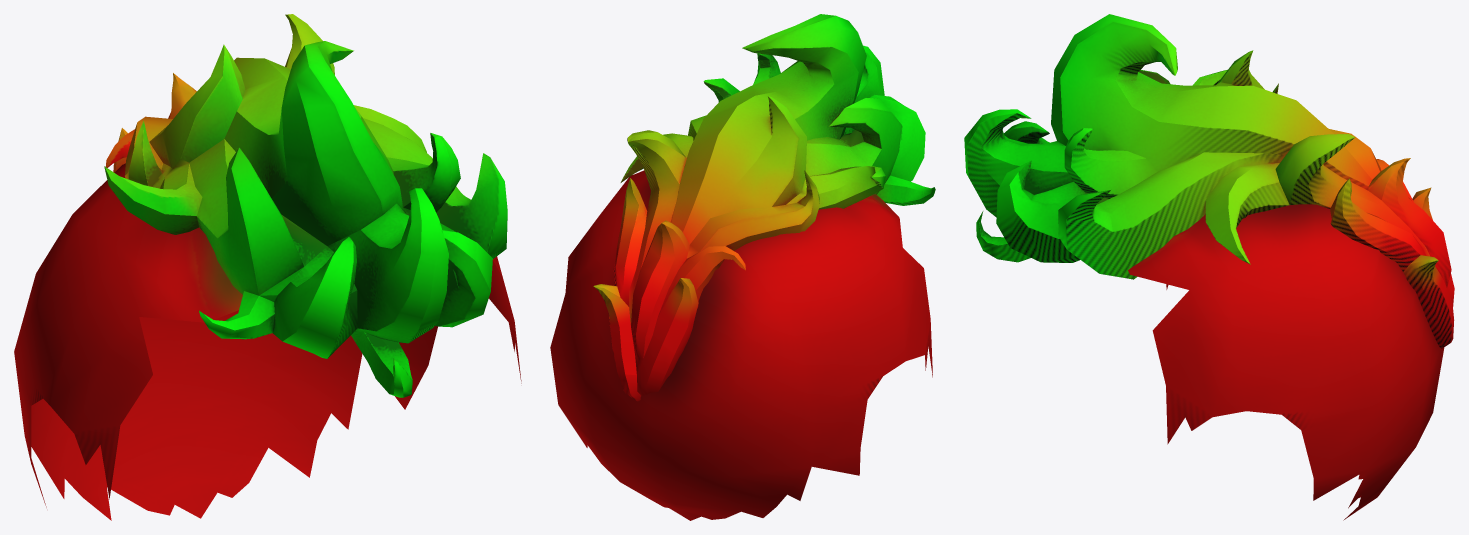
File: SM_Player_Hair_Football.glb
3 renders of one model, left to right at view 1: azimuth 30°, elevation 25°; view 2: azimuth 150°, elevation 25°; view 3: azimuth 270°, elevation 25°, orthographic. The views are drawn at different scales.
Visible parts, largest first — view 1: SM_Player_Hair_Football; view 2: SM_Player_Hair_Football; view 3: SM_Player_Hair_Football.
Boxes of the visible parts, x1,y1,x2,y2 form: SM_Player_Hair_Football: (14, 14, 521, 520); SM_Player_Hair_Football: (550, 14, 935, 520); SM_Player_Hair_Football: (964, 14, 1454, 520).
Bounding box in the file's own units: 0.4043 × 0.5028 × 0.4774.
Materials: 1 (1 with a texture image).
